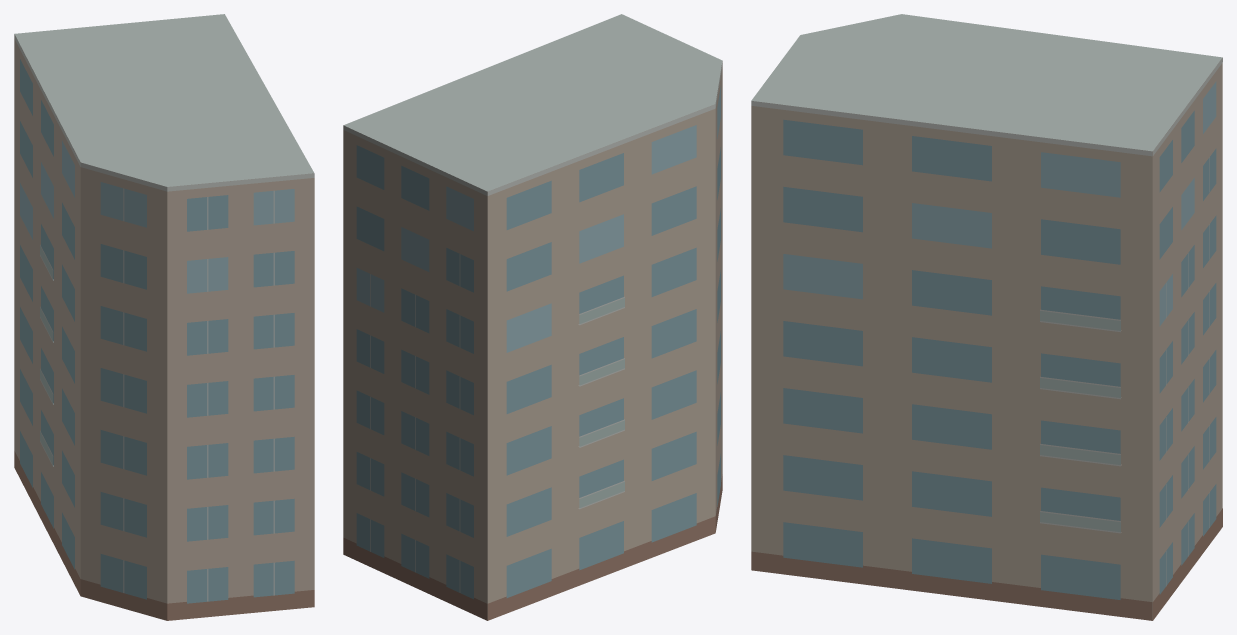
The model's file is survey-upis-32871911.glb.
3 renders of one model, left to right at view 1: azimuth 30°, elevation 25°; view 2: azimuth 150°, elevation 25°; view 3: azimuth 270°, elevation 25°, orthographic. The views are drawn at different scales.
Parts seen in each view (by area): view 1: survey-upis-32871911.tmp; view 2: survey-upis-32871911.tmp; view 3: survey-upis-32871911.tmp.
Part boxes in pixels (<box>): survey-upis-32871911.tmp: <box>14,14,314,620</box>; survey-upis-32871911.tmp: <box>343,14,722,620</box>; survey-upis-32871911.tmp: <box>751,14,1222,620</box>.
Size of the model in its own units: 14.38 by 22.9 by 20.85.
